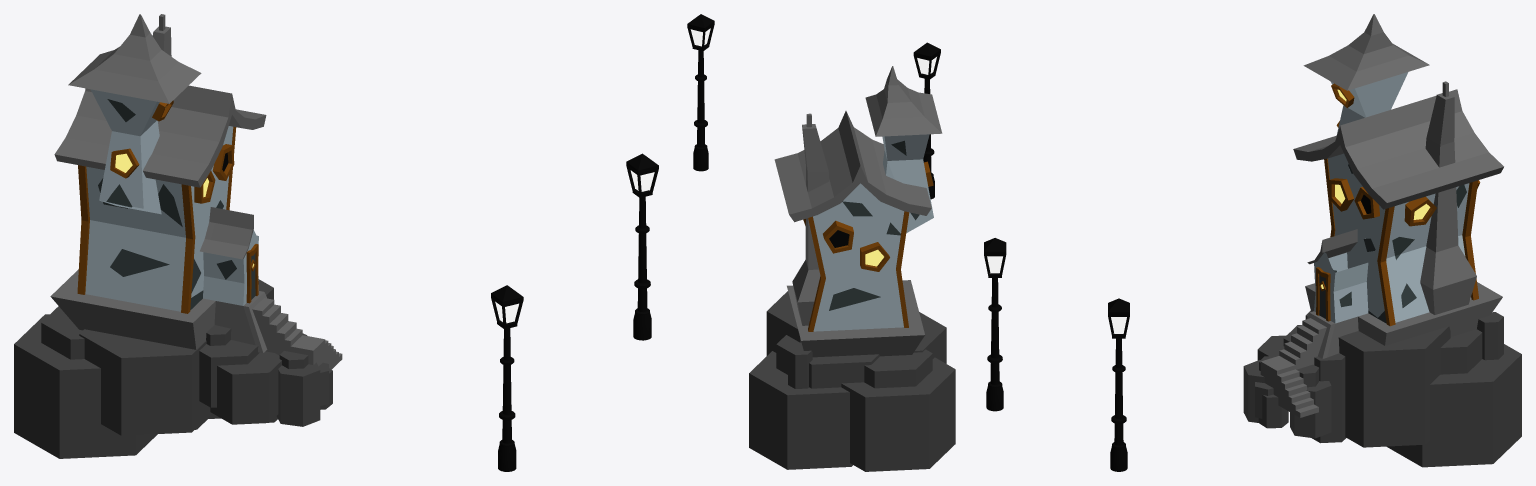
File: mansion.gltf
The picture shows the model from 3 angles, left to right: view 1: azimuth 30°, elevation 25°; view 2: azimuth 150°, elevation 25°; view 3: azimuth 270°, elevation 25°; orthographic projection. The views are drawn at different scales.
Parts seen in each view (by area): view 1: house, window tower, Cylinder.007, Cylinder, backbone, big roof, Cylinder.016, stair, lantern.001, lantern, Cylinder.011, pole left (+4 smaller); view 2: Cylinder.007, house, Cylinder.008, big roof, window tower, backbone, chimny, Cylinder.002, Cylinder.009, lantern.001, Cylinder.001, lantern (+6 smaller); view 3: big roof, Cylinder.001, Cylinder.008, house, backbone, chimny, window tower, stair, lantern, lantern.001, pole right, Cylinder.005 (+9 smaller).
Boxes of the visible parts, x1,y1,x2,y2 form: house: (85,126,233,311); window tower: (68,14,201,214); Cylinder.007: (14,314,157,458); Cylinder: (79,329,211,435); backbone: (50,230,267,352); big roof: (54,85,266,187); Cylinder.016: (210,351,281,424); stair: (252,298,342,369); lantern.001: (626,153,658,340); lantern: (491,285,523,471); Cylinder.011: (276,362,320,426); pole left: (77,165,195,313); Cylinder.007: (841,357,955,471); house: (813,183,904,331); Cylinder.008: (749,351,852,469); big roof: (774,111,931,222); window tower: (865,66,942,232); backbone: (787,280,924,357); chimny: (792,113,829,325); Cylinder.002: (776,335,879,388); Cylinder.009: (864,349,932,388); lantern.001: (687,14,714,171); Cylinder.001: (766,291,801,355); lantern: (913,42,940,199); big roof: (1293,89,1503,209); Cylinder.001: (1338,326,1450,447); Cylinder.008: (1387,344,1521,467); house: (1328,153,1471,323); backbone: (1305,252,1502,358); chimny: (1420,81,1476,314); window tower: (1303,14,1429,135); stair: (1260,318,1326,417); lantern: (984,238,1006,411); lantern.001: (1108,298,1129,471); pole right: (1377,180,1478,326); Cylinder.005: (1312,353,1346,443).
Bounding box in the file's own units: 3.1 × 2.78 × 3.38.
